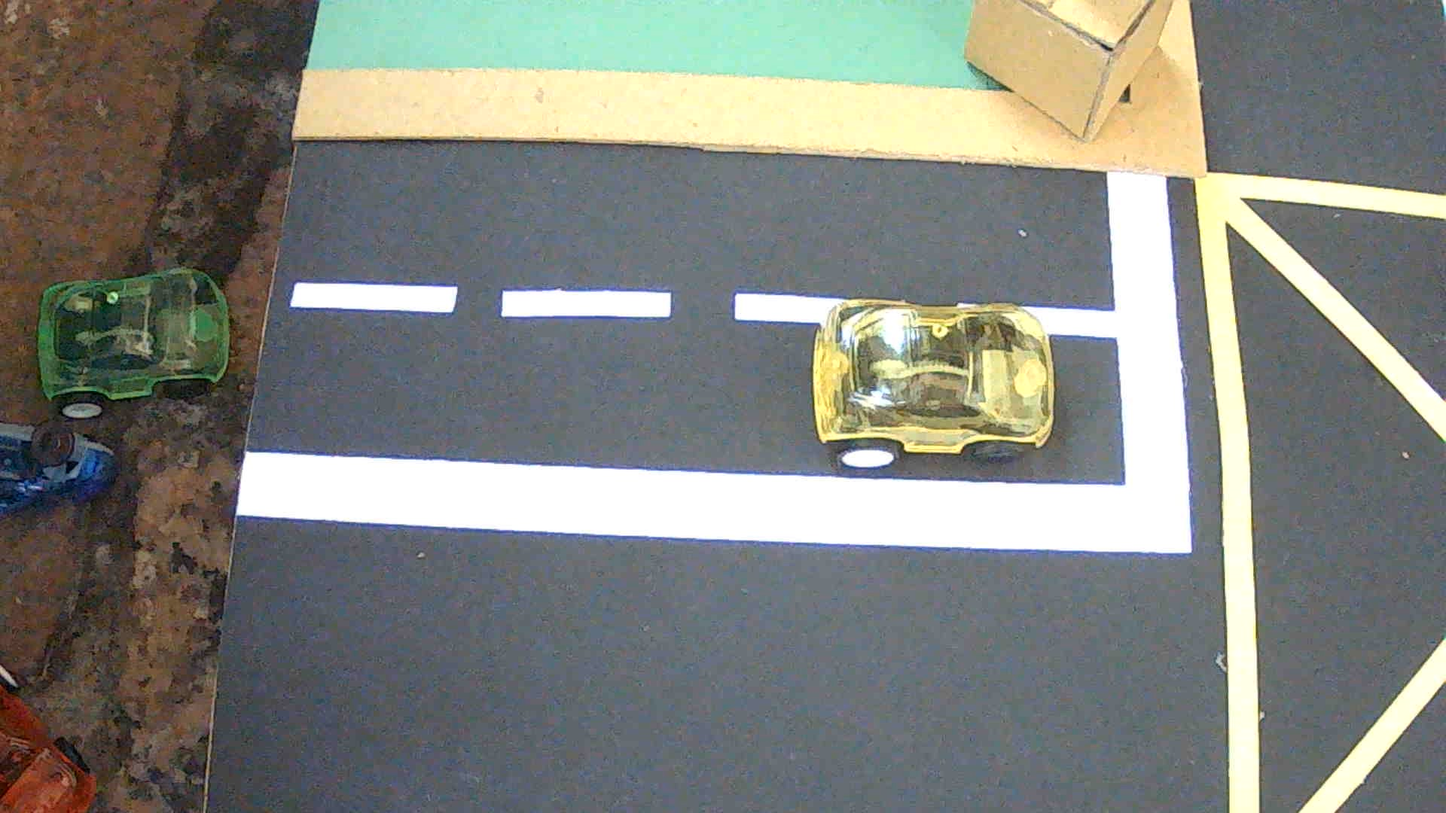Mobil kuning: (812, 299, 1055, 469)
